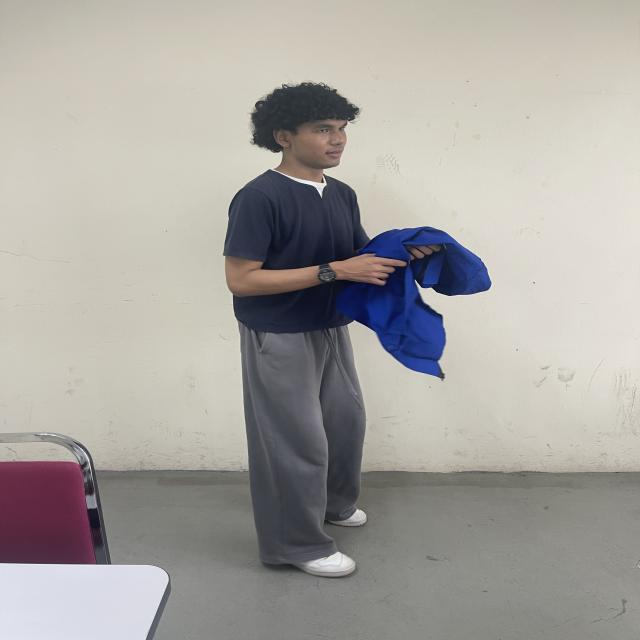person_without_labcoat: (223, 83, 491, 577)
